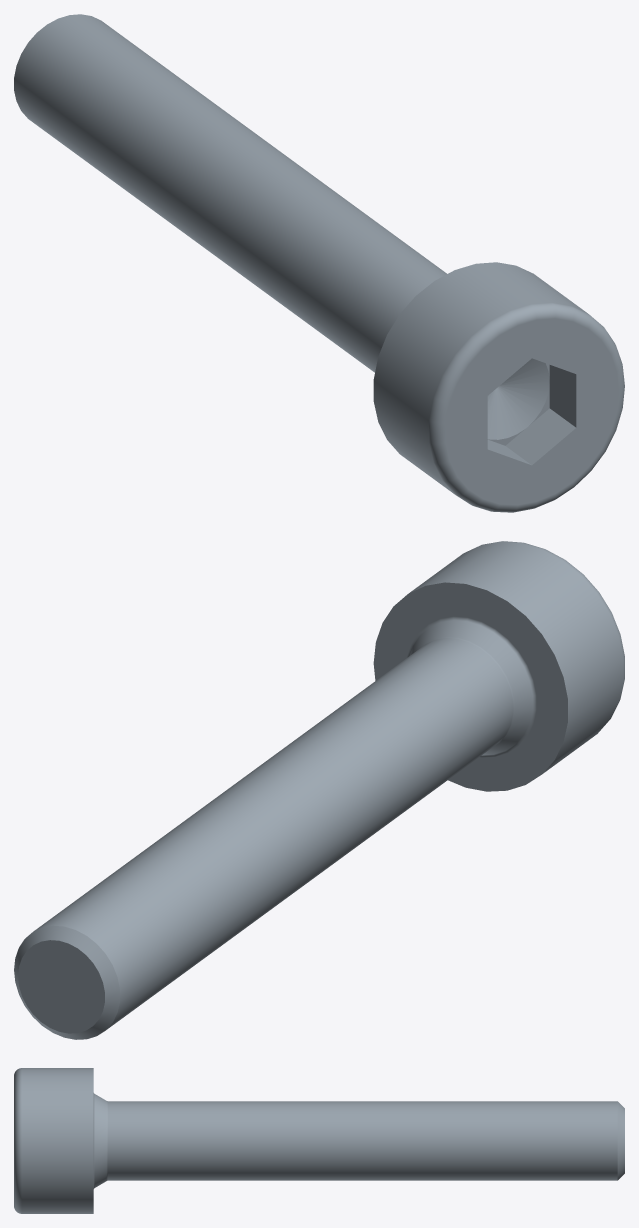
File: Hex_socket_head_cap_screw_M3x0_50_x_20.obj
3 renders of one model, top to bottom at view 1: azimuth 30°, elevation 25°; view 2: azimuth 150°, elevation 25°; view 3: azimuth 270°, elevation 25°, orthographic. The views are drawn at different scales.
Visible parts, largest first — view 1: mesh682, mesh689, mesh687, mesh688, mesh697, mesh695, mesh690; view 2: mesh682, mesh687, mesh686, mesh680, mesh684, mesh681, mesh685; view 3: mesh682, mesh687, mesh688, mesh684, mesh681.
Part boxes in pixels (left/top/right/bottom): mesh682: left=14, top=14, right=446, bottom=372; mesh689: left=445, top=318, right=618, bottom=504; mesh687: left=373, top=262, right=587, bottom=494; mesh688: left=429, top=302, right=624, bottom=512; mesh697: left=487, top=358, right=549, bottom=439; mesh695: left=506, top=408, right=575, bottom=464; mesh690: left=549, top=365, right=576, bottom=427; mesh682: left=33, top=638, right=513, bottom=1029; mesh687: left=409, top=542, right=623, bottom=773; mesh686: left=373, top=582, right=567, bottom=791; mesh680: left=18, top=940, right=104, bottom=1033; mesh684: left=410, top=620, right=532, bottom=754; mesh681: left=14, top=925, right=119, bottom=1039; mesh685: left=406, top=616, right=536, bottom=757; mesh682: left=108, top=1101, right=617, bottom=1180; mesh687: left=22, top=1068, right=93, bottom=1213; mesh688: left=14, top=1068, right=21, bottom=1213; mesh684: left=95, top=1094, right=106, bottom=1187; mesh681: left=617, top=1101, right=624, bottom=1180.
Size of the model in its own units: 0.00548 by 0.00549 by 0.023.
